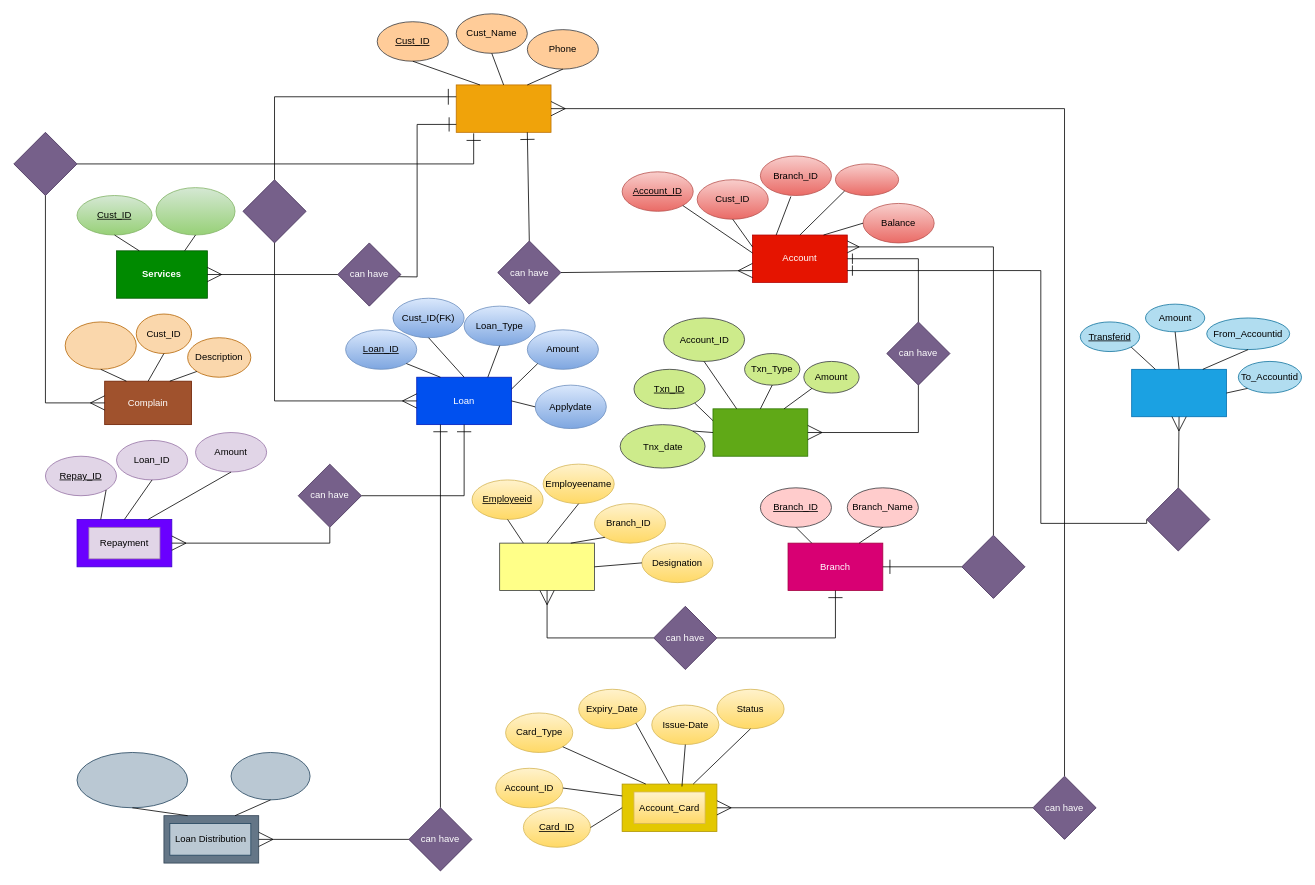
The diagram is 1315 pixels wide and 885 high, and some of its shapes have lost their labels. Here are the shapes that lost their labels. From the top down, the box of each, then its label:
(455, 84, 551, 132): Customer
(13, 132, 77, 196): can give
(835, 163, 899, 196): Account Type
(155, 187, 235, 235): Serivce_Type
(242, 179, 306, 243): can take
(64, 321, 136, 369): Complaint_ID
(1131, 369, 1226, 417): Transfers
(712, 408, 808, 456): Transaction
(1146, 487, 1210, 551): can
(499, 542, 594, 591): Employee
(961, 534, 1025, 598): Can handle
(76, 752, 188, 808): Diistributed_Amount
(230, 752, 310, 800): Loan_ID(FK)
